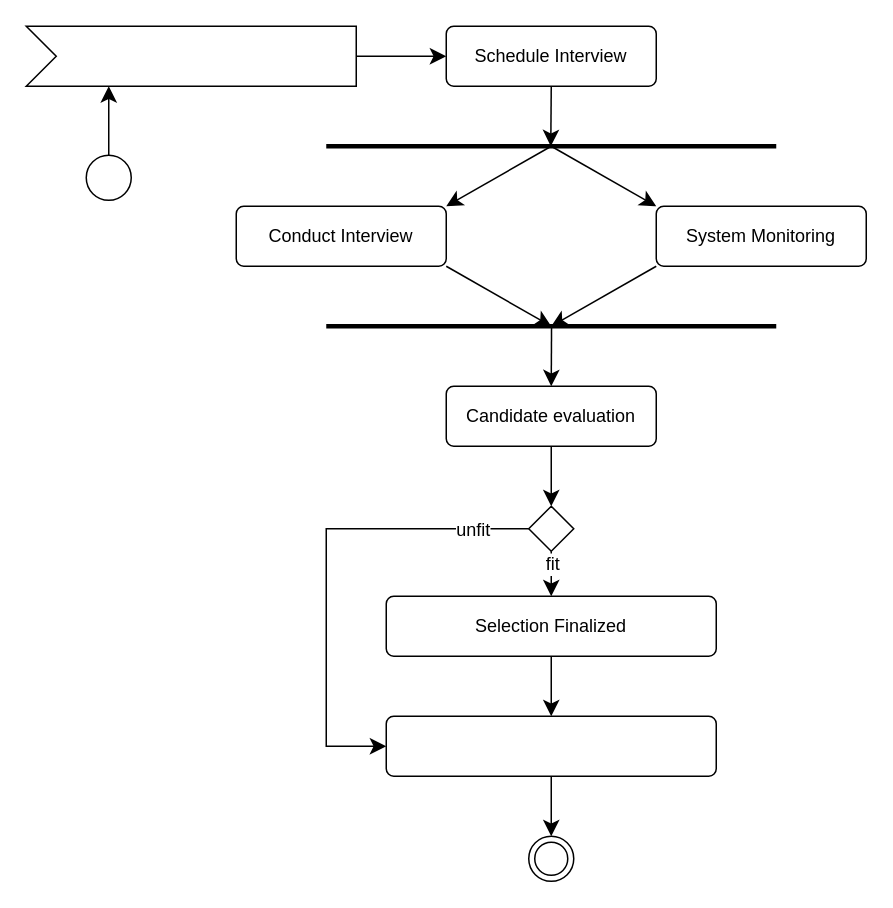
Image size: 893x908. Some labels were removed from this diagram. Here are the shapes that lost their labels. From the top down, the centre of each, then its label:
point (190, 55): Recommendation Accepted
point (550, 745): Notify Student and Company
